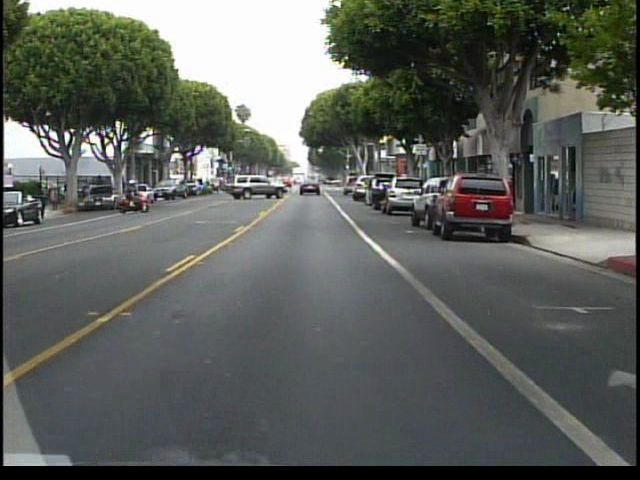person: (127, 179, 147, 211), (92, 171, 109, 206)
